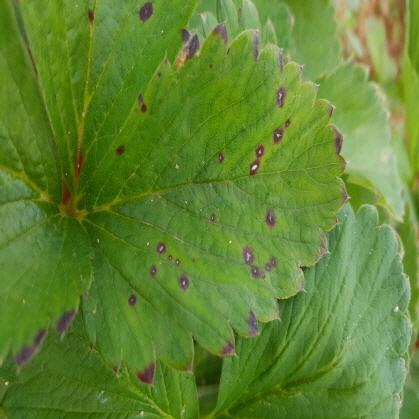Leaf Spot: (74, 21, 352, 388), (17, 0, 201, 203)
